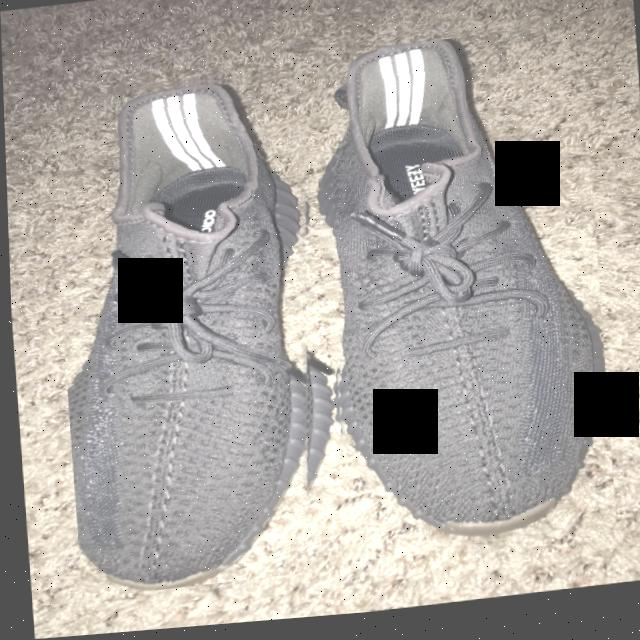shoe: (308, 32, 613, 569), (45, 68, 337, 601)
